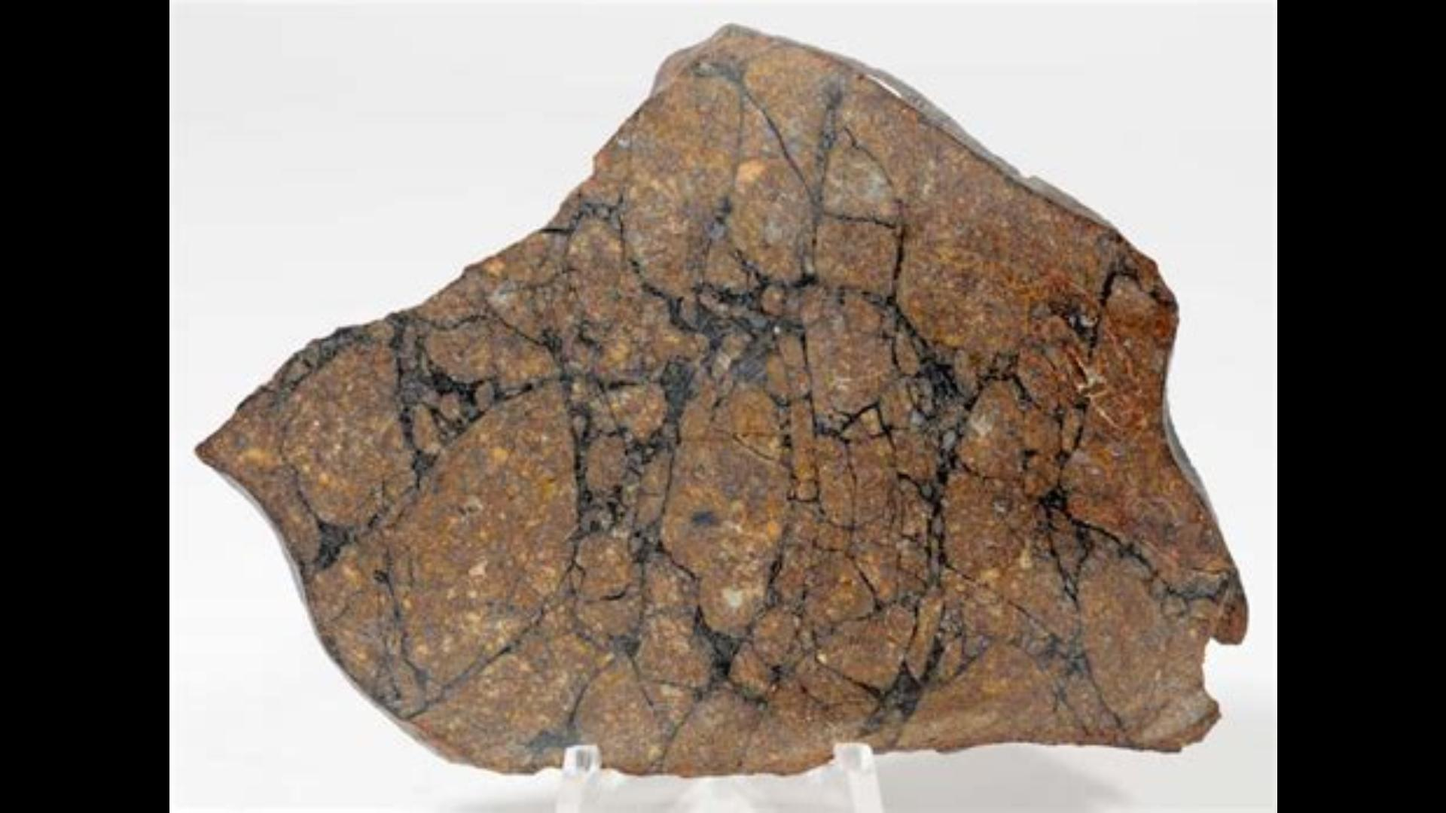rock: (197, 28, 1244, 773)
